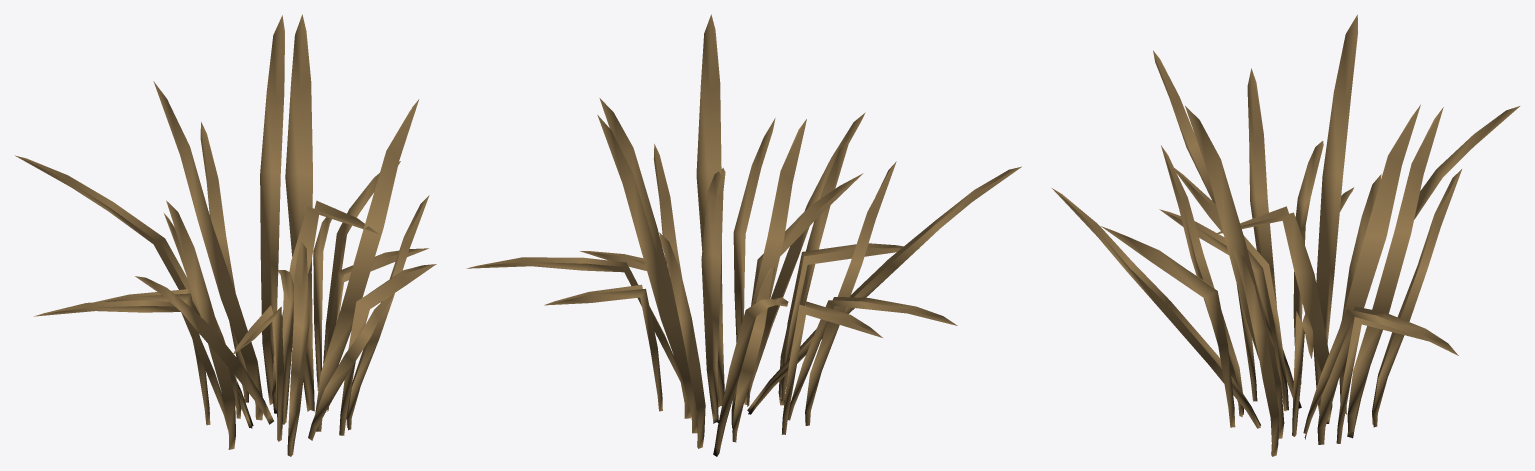
File: Grass_Wispy_Short__go_ruins.glb
The picture shows the model from 3 angles, left to right: view 1: azimuth 30°, elevation 25°; view 2: azimuth 150°, elevation 25°; view 3: azimuth 270°, elevation 25°; orthographic projection. The views are drawn at different scales.
Parts seen in each view (by area): view 1: Grass_Wispy_Short; view 2: Grass_Wispy_Short; view 3: Grass_Wispy_Short.
Boxes of the visible parts, bbox=[...] form: Grass_Wispy_Short: bbox=[15, 14, 436, 456]; Grass_Wispy_Short: bbox=[466, 14, 1021, 456]; Grass_Wispy_Short: bbox=[1052, 14, 1519, 456].
Size of the model in its own units: 1.32 by 1.07 by 1.21.
Materials: 1 (1 with a texture image).
